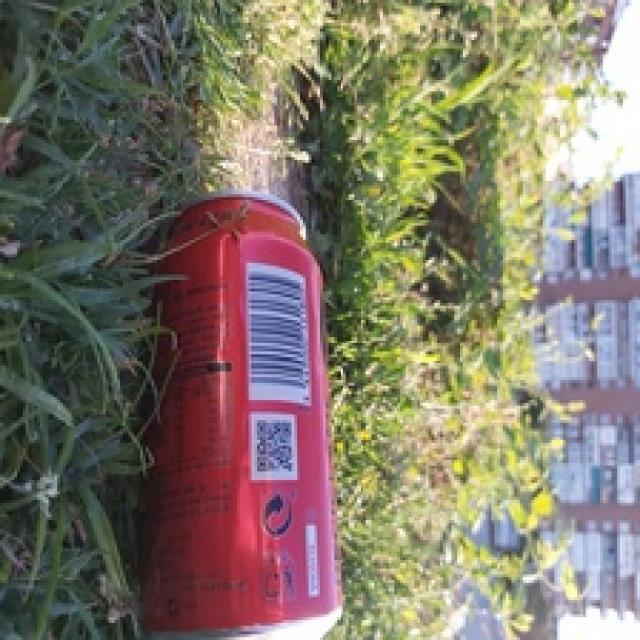recyclable: (139, 191, 348, 640)
